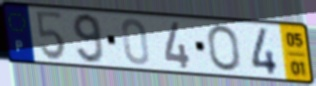0: (120, 17, 152, 67)
4: (250, 26, 280, 78), (163, 20, 192, 70)
5: (34, 9, 68, 63)
9: (70, 12, 107, 66)
O: (205, 23, 243, 74)
